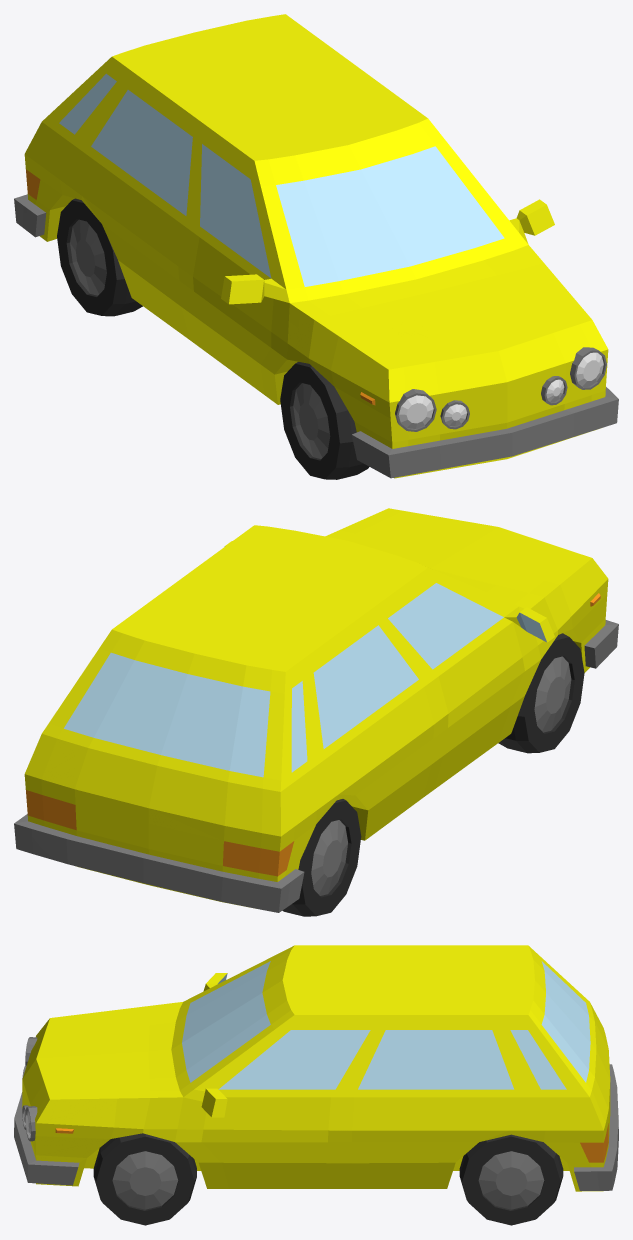
File: car_yellow.glb
The picture shows the model from 3 angles, top to bottom: view 1: azimuth 30°, elevation 25°; view 2: azimuth 150°, elevation 25°; view 3: azimuth 270°, elevation 25°; orthographic projection. The views are drawn at different scales.
Parts seen in each view (by area): view 1: 1377 Car; view 2: 1377 Car; view 3: 1377 Car.
Part boxes in pixels (box(x1,y1,x2,y2)): 1377 Car: box(14, 14, 618, 479); 1377 Car: box(14, 508, 618, 916); 1377 Car: box(14, 945, 618, 1225).
Size of the model in its own units: 45.5 by 32.33 by 89.11.
1 material, 1 textured.
